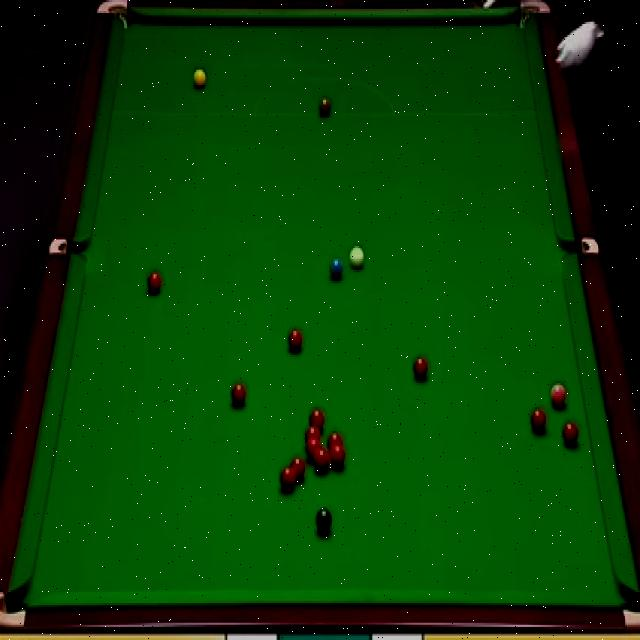black-ball: (315, 505, 333, 537)
blue-ball: (328, 256, 345, 279)
brown-ball: (318, 96, 332, 118)
pink-ball: (550, 381, 567, 409)
red-ball: (230, 381, 248, 410), (278, 466, 296, 494), (290, 458, 308, 485), (329, 444, 346, 471), (531, 408, 549, 433), (562, 422, 580, 446), (414, 354, 429, 382), (287, 329, 304, 353), (147, 271, 162, 296), (314, 447, 329, 472), (308, 408, 326, 426), (306, 440, 321, 460), (305, 425, 320, 442), (328, 434, 342, 448)
white-ball: (347, 246, 364, 270)
yellow-ball: (193, 69, 208, 91)
